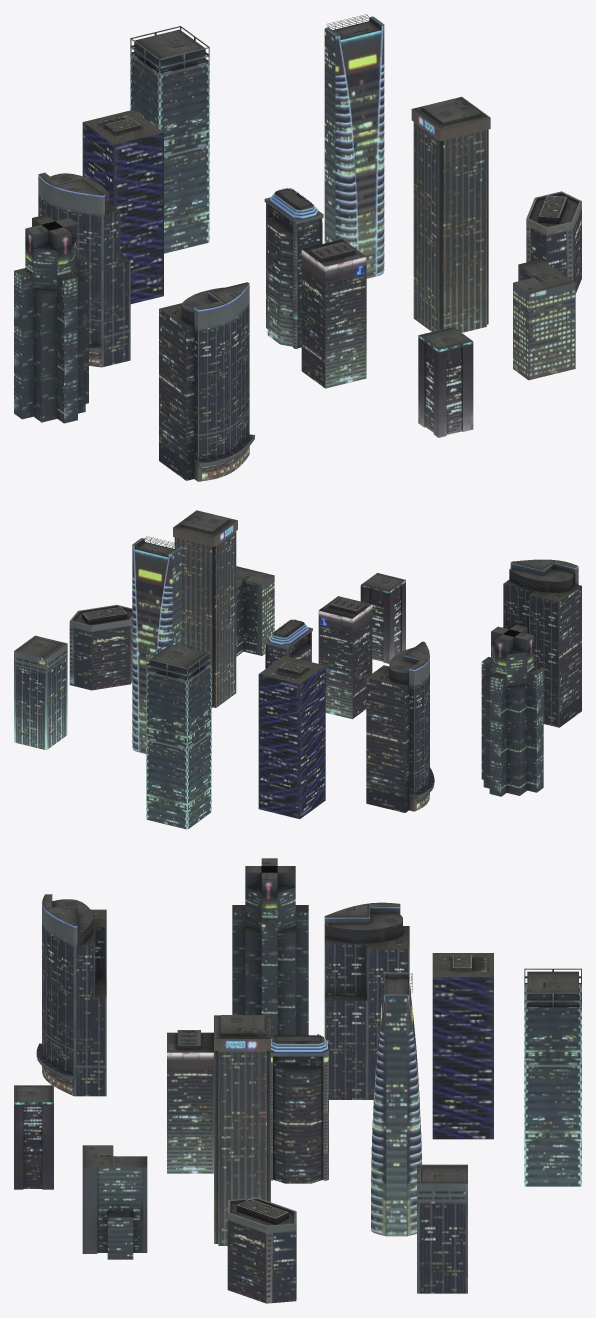
Rendered from night-skyline.glb.
The picture shows the model from 3 angles, top to bottom: view 1: azimuth 30°, elevation 25°; view 2: azimuth 150°, elevation 25°; view 3: azimuth 270°, elevation 25°; orthographic projection. The views are drawn at different scales.
Parts seen in each view (by area): view 1: Cube.001; view 2: Cube.001; view 3: Cube.001.
Boxes of the visible parts, x1=… form: Cube.001: x1=14, y1=14, x2=581, y2=481; Cube.001: x1=14, y1=510, x2=581, y2=829; Cube.001: x1=14, y1=858, x2=581, y2=1303.
Bounding box in the file's own units: 196 × 81.99 × 173.
1 material, 1 textured.
